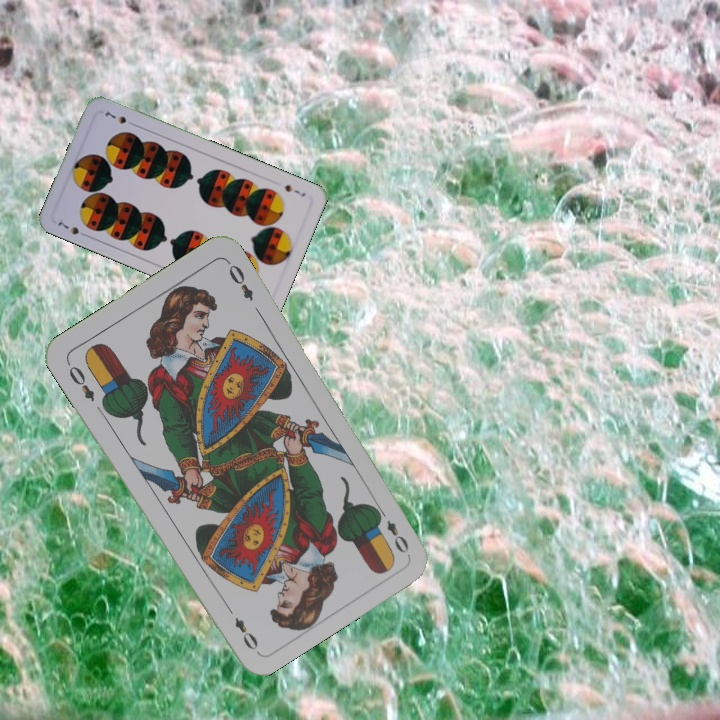EO: (373, 503, 412, 556), (63, 358, 97, 404)
S7: (53, 217, 91, 240), (281, 180, 308, 199)
